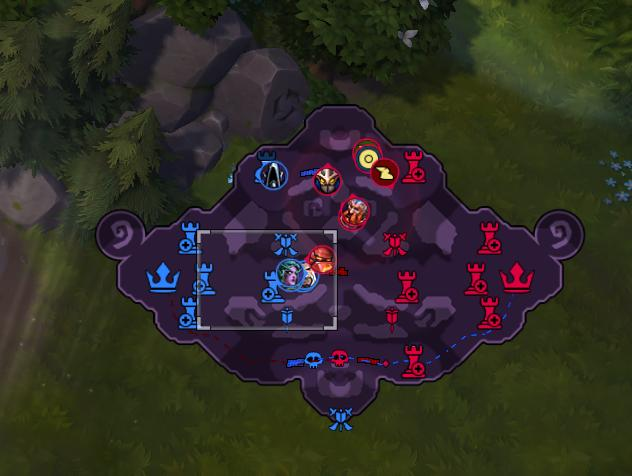blue nexus: (144, 260, 181, 292)
blue player: (275, 258, 304, 289), (258, 160, 287, 190), (294, 262, 319, 291)
blue tower: (259, 269, 286, 303), (192, 261, 217, 295), (176, 220, 200, 254), (177, 295, 198, 328)
red nexus: (498, 260, 535, 293)
red player: (338, 195, 370, 231), (353, 138, 381, 173), (369, 157, 399, 187), (312, 164, 341, 195), (306, 244, 335, 274)
red tower: (476, 220, 502, 255), (400, 343, 426, 378), (401, 148, 426, 184), (463, 260, 488, 296), (476, 295, 502, 329), (394, 269, 419, 303)
